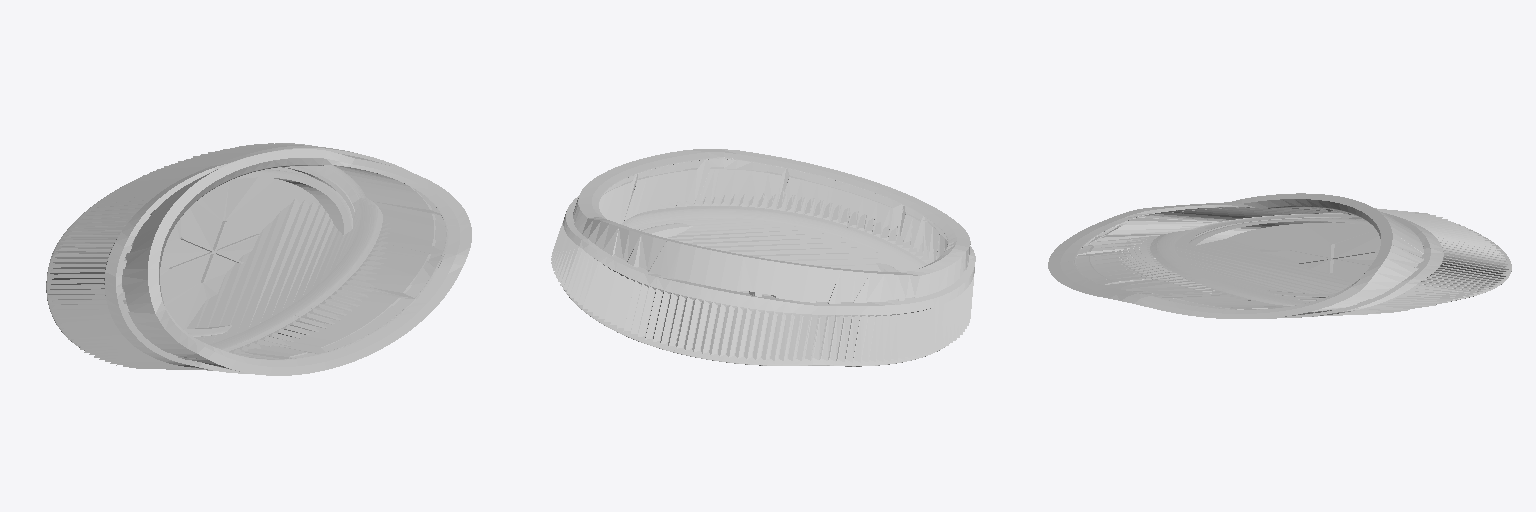
Rendered from bottle_cap_short.002.obj.
The picture shows the model from 3 angles: view 1: azimuth 30°, elevation 25°; view 2: azimuth 150°, elevation 25°; view 3: azimuth 270°, elevation 25°; orthographic projection.
Parts seen in each view (by area): view 1: bottle_cap_short.002; view 2: bottle_cap_short.002; view 3: bottle_cap_short.002.
Boxes of the visible parts, <box> form: bottle_cap_short.002: <box>46,143,471,375</box>; bottle_cap_short.002: <box>551,149,975,366</box>; bottle_cap_short.002: <box>1048,193,1511,318</box>.
Size of the model in its own units: 0.0321 by 0.0077 by 0.0353.